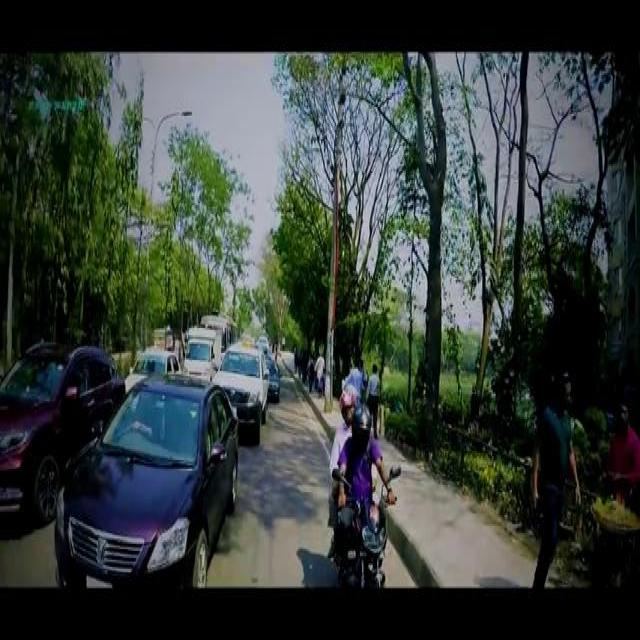bus: (198, 312, 236, 346)
car: (52, 373, 238, 588), (0, 340, 125, 516), (126, 343, 180, 390), (266, 356, 280, 398)
motorbike: (328, 468, 398, 587)
pickup: (211, 341, 267, 438), (182, 326, 220, 376)
